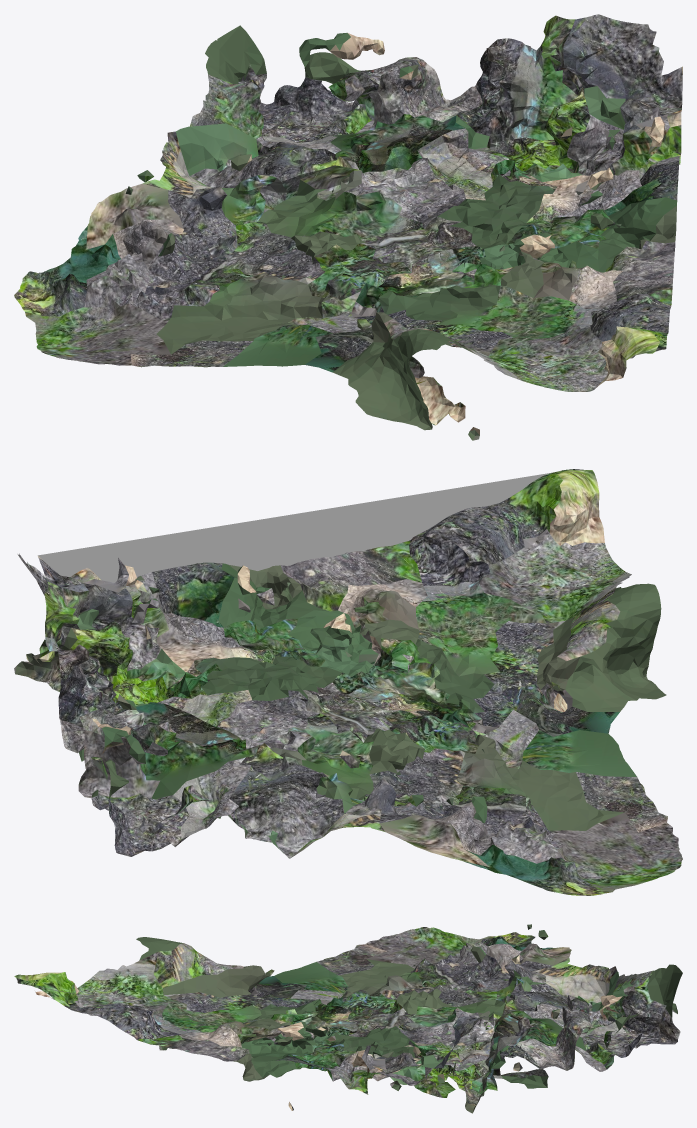
File: garden_1_2_10000f_8192t_lowdp.gltf
The picture shows the model from 3 angles, top to bottom: view 1: azimuth 30°, elevation 25°; view 2: azimuth 150°, elevation 25°; view 3: azimuth 270°, elevation 25°; orthographic projection. The views are drawn at different scales.
Size of the model in its own units: 9.51 by 2.86 by 11.18.
Materials: 1 (1 with a texture image).
